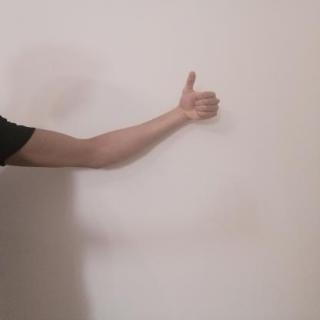ALIF: (170, 65, 227, 127)
